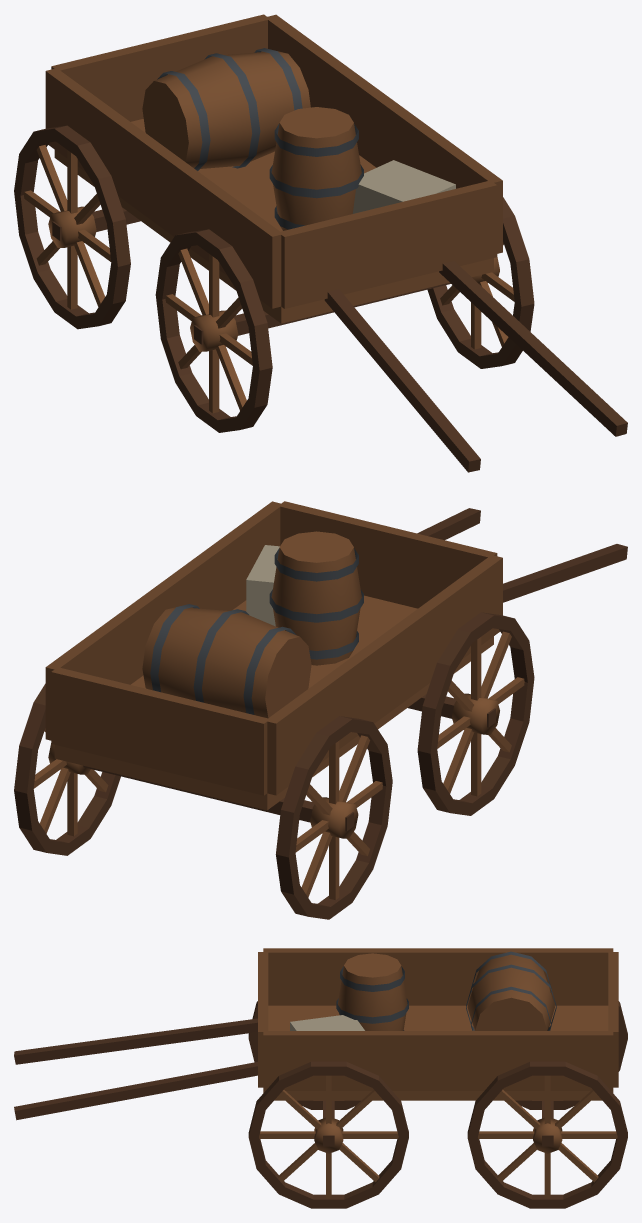
The model's file is viz.glb.
3 views of the same model, one above another, from view 1: azimuth 30°, elevation 25°; view 2: azimuth 150°, elevation 25°; view 3: azimuth 270°, elevation 25° (orthographic). The views are drawn at different scales.
Visible parts, largest first — view 1: viz; view 2: viz; view 3: viz.
Boxes of the visible parts, x1,y1,x2,y2 form: viz: (14,14,627,472); viz: (14,501,627,919); viz: (14,948,627,1208).
Bounding box in the file's own units: 1.8 × 1.45 × 4.21.
